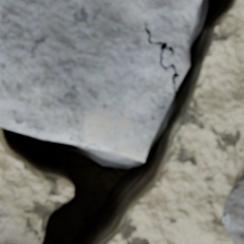brick: (0, 0, 199, 159), (223, 176, 243, 243)
crack: (0, 0, 243, 243)
